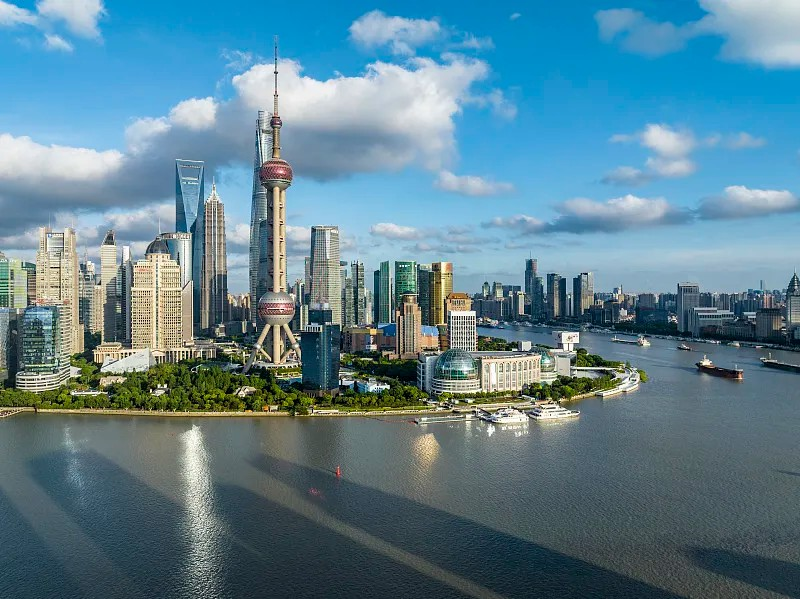Oriental: (242, 36, 302, 372)
